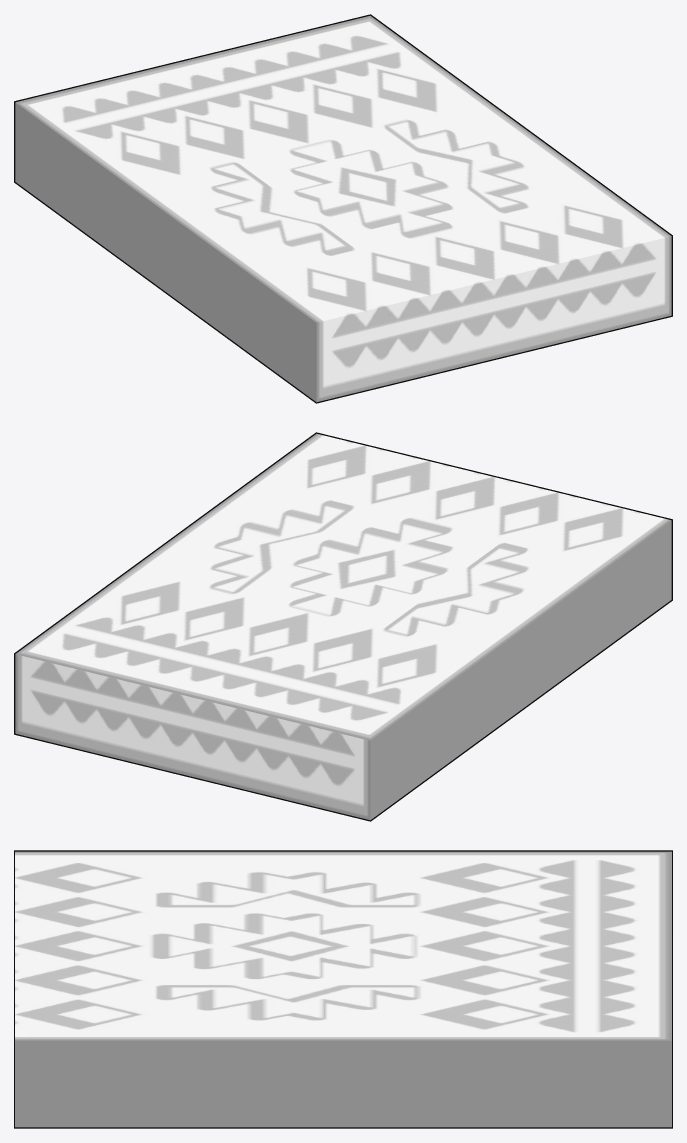
File: Building_TotemicSlab_Medium_Things_Building_FloorCoverings_SlabTotemicMedium_SlabTotemicMediumB.glb
The picture shows the model from 3 angles, top to bottom: view 1: azimuth 30°, elevation 25°; view 2: azimuth 150°, elevation 25°; view 3: azimuth 270°, elevation 25°; orthographic projection. The views are drawn at different scales.
Parts seen in each view (by area): view 1: Body, Outline; view 2: Body, Outline; view 3: Body, Outline.
Boxes of the visible parts, <box> form: Body: <box>15,15,671,402</box>; Outline: <box>14,14,672,403</box>; Body: <box>15,433,671,820</box>; Outline: <box>14,432,672,821</box>; Body: <box>15,851,671,1127</box>; Outline: <box>14,850,672,1128</box>.
Size of the model in its own units: 1.99 by 0.4334 by 2.92.
2 materials, 1 textured.
